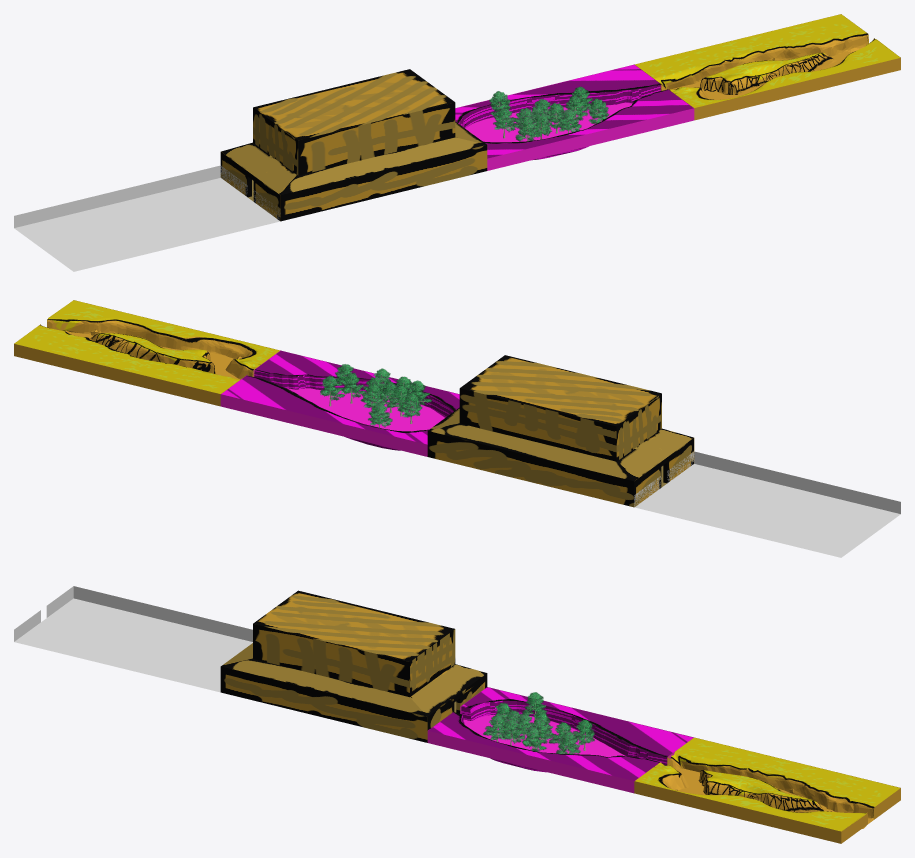
The model's file is map_gamejam.glb.
3 renders of one model, top to bottom at view 1: azimuth 30°, elevation 25°; view 2: azimuth 150°, elevation 25°; view 3: azimuth 330°, elevation 25°, orthographic.
Parts seen in each view (by area): view 1: Plane.003, Plane.004, Plane.002, Plane, Plane.001; view 2: Plane.003, Plane.004, Plane.002, Plane, Plane.001; view 3: Plane.003, Plane.002, Plane.004, Plane, Plane.001.
Boxes of the visible parts, x1=… form: Plane.003: x1=220, y1=69, x2=487, y2=221; Plane.004: x1=14, y1=165, x2=280, y2=271; Plane.002: x1=634, y1=14, x2=900, y2=120; Plane: x1=455, y1=65, x2=692, y2=160; Plane.001: x1=456, y1=64, x2=694, y2=170; Plane.003: x1=427, y1=355, x2=694, y2=507; Plane.004: x1=634, y1=451, x2=900, y2=557; Plane.002: x1=14, y1=300, x2=280, y2=406; Plane: x1=222, y1=351, x2=459, y2=450; Plane.001: x1=220, y1=350, x2=458, y2=456; Plane.003: x1=220, y1=590, x2=487, y2=742; Plane.002: x1=634, y1=737, x2=900, y2=843; Plane.004: x1=14, y1=586, x2=252, y2=692; Plane: x1=428, y1=687, x2=692, y2=780; Plane.001: x1=427, y1=687, x2=693, y2=793.
Bounding box in the file's own units: 160 × 17.36 × 20.
9 materials, 6 textured.
